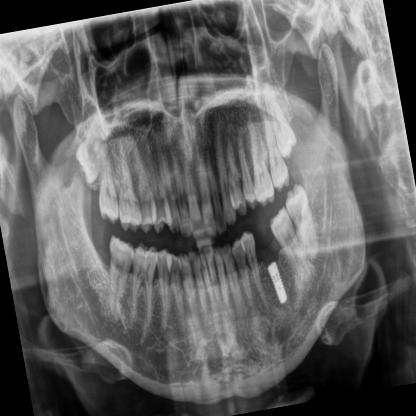ITI: (264, 255, 294, 306)
